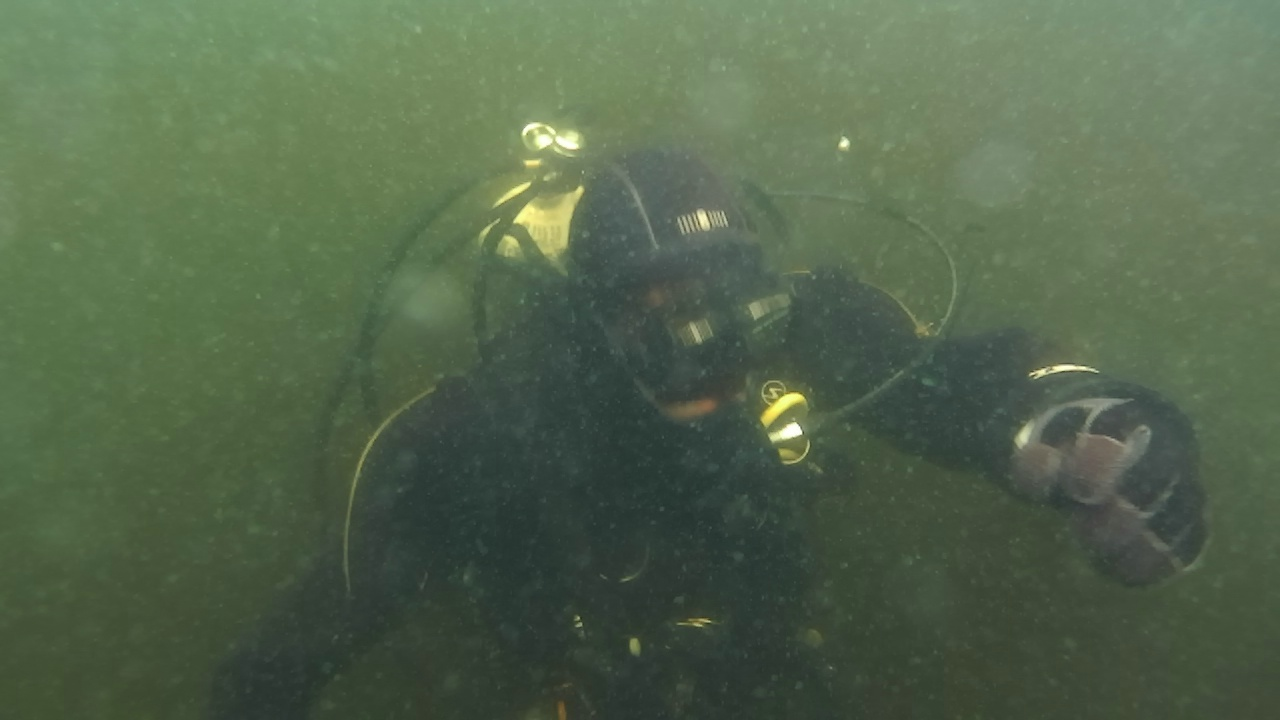Diver: (208, 116, 1226, 718)
Hand: (960, 368, 1216, 602)
Head: (534, 146, 832, 514)
